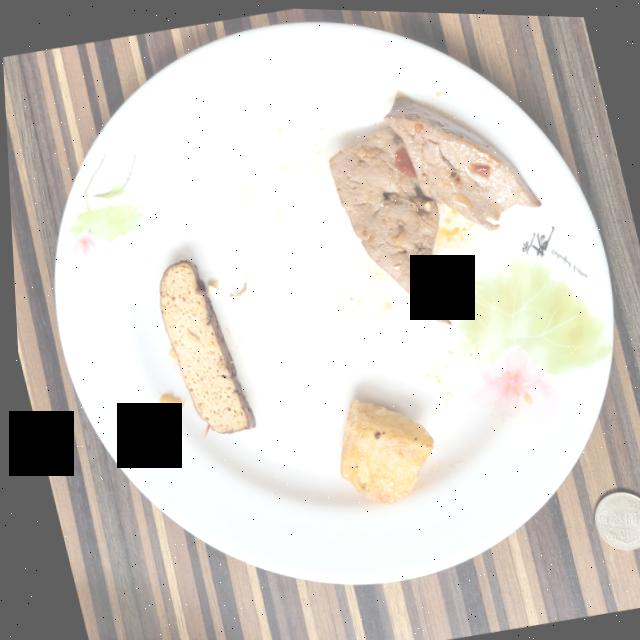coin: (589, 487, 640, 546)
firm tofu: (156, 258, 251, 431)
fried potato: (336, 397, 428, 501)
pig liver: (328, 91, 539, 320)
